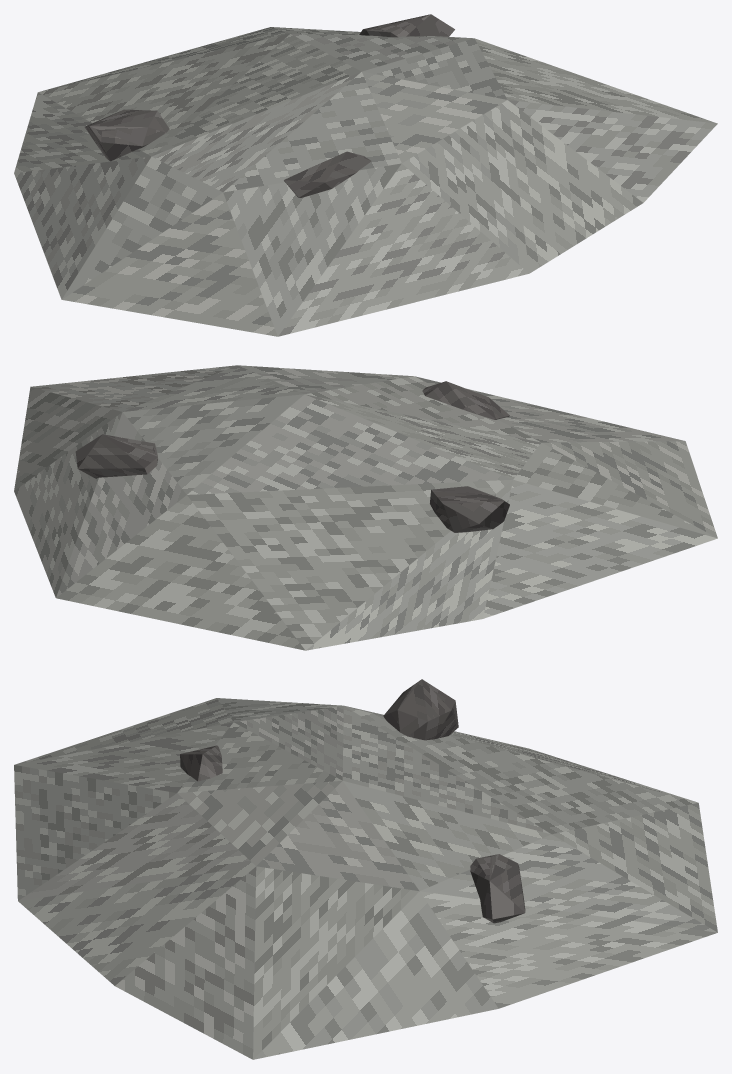
File: ash.glb
The picture shows the model from 3 angles, top to bottom: view 1: azimuth 30°, elevation 25°; view 2: azimuth 150°, elevation 25°; view 3: azimuth 270°, elevation 25°; orthographic projection. The views are drawn at different scales.
Parts seen in each view (by area): view 1: block_loose gray ash, block_char fragment (×3); view 2: block_loose gray ash, block_char fragment (×3); view 3: block_loose gray ash, block_char fragment (×3).
Boxes of the visible parts, <box> form: block_loose gray ash: <box>14,27,717,336</box>; block_char fragment (×3): <box>84,14,454,197</box>; block_loose gray ash: <box>14,365,717,650</box>; block_char fragment (×3): <box>75,381,509,532</box>; block_loose gray ash: <box>14,698,717,1059</box>; block_char fragment (×3): <box>180,679,525,923</box>.
Bounding box in the file's own units: 0.0516 × 0.00727 × 0.0424.
1 material, 1 textured.
